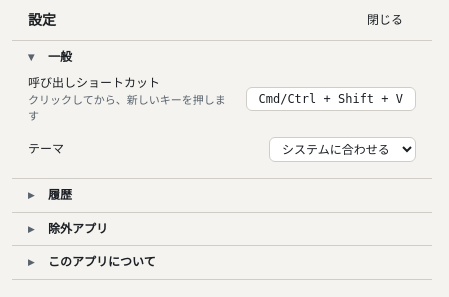
Test case: SettingsWindow › ショートカット › 入力待ちの Esc は取り消しで、ウィンドウは閉じない
Click the button with aria-label "呼び出しショートカット": point(331, 99) [246,87,416,111]
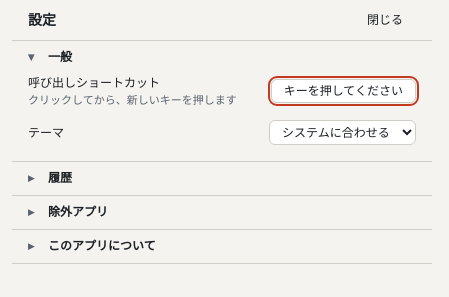
Press Escape
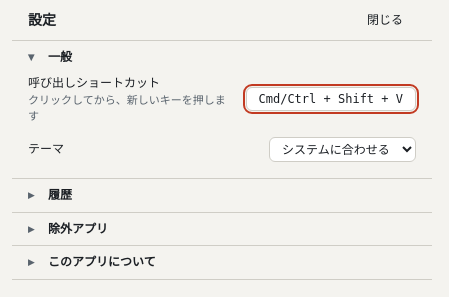
Expected: the button with aria-label "呼び出しショートカット" reads "Cmd/Ctrl + Shift + V", [246,87,416,111]
